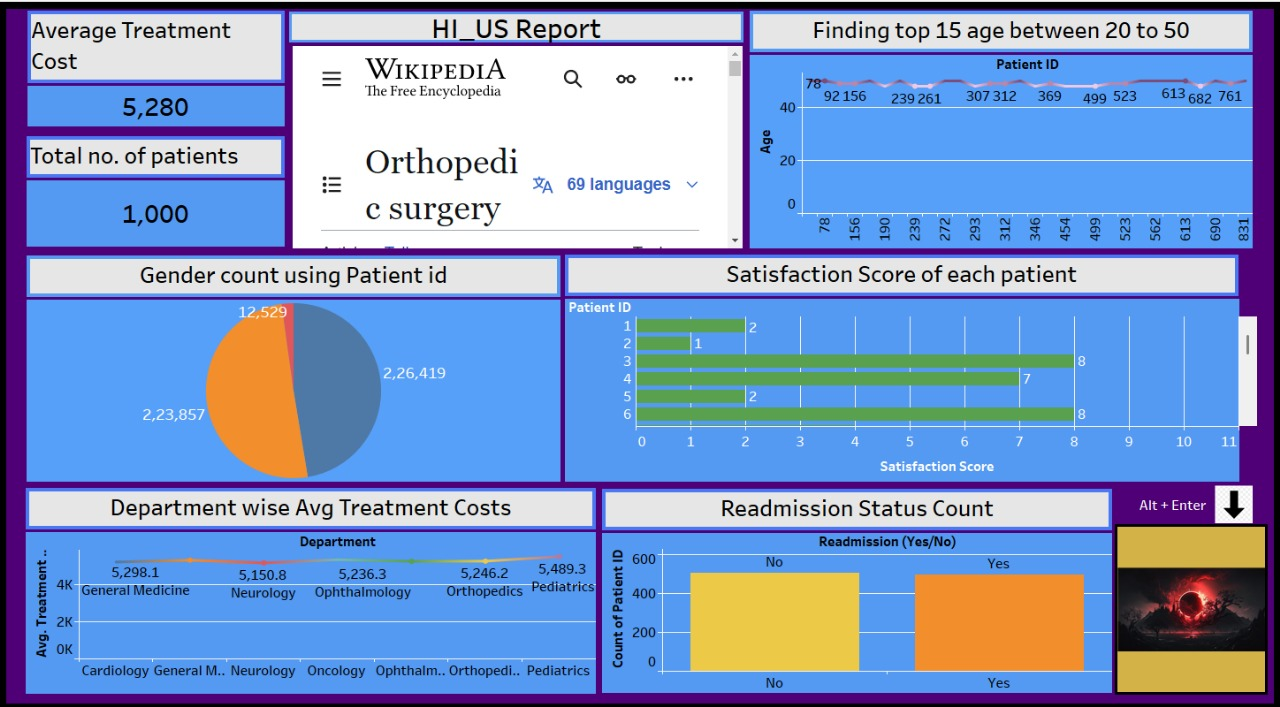

What the dashboard file says about the page in this screenshot:
{"tool":"tableau","page":{"name":"Dashboard 1","canvas":[1000,1000],"units":"permille","ordinal":0},"visuals":[{"type":"worksheet","title":"Sheet 9","mark":"Automatic","box":[22.1,12.5,200.7,163.3]},{"type":"worksheet","title":"Sheet 1","mark":"Line","rows":["Age"],"cols":["Patient ID"],"box":[585.5,12.5,392.4,335.4]},{"type":"title","box":[226.2,13.7,354.5,43.6]},{"type":"web page","param":"https://en.wikipedia.org/wiki/Orthopedics","box":[229,62.3,351,285.5]},{"type":"worksheet","title":"Sheet 8","mark":"Automatic","box":[21.4,189.5,201.4,155.9]},{"type":"worksheet","title":"Sheet 4","mark":"Automatic","rows":["Patient ID"],"cols":["Satisfaction Score"],"box":[441.4,356.6,540,320.4]},{"type":"worksheet","title":"Sheet 2","mark":"Pie","box":[21.4,357.9,416.6,319.2]},{"type":"image","param":"C:/Users/Divya/Downloads/down arrow.jpg","box":[944.1,682,37.9,53.6]},{"type":"text","box":[872.4,683.3,86.2,52.4]},{"type":"worksheet","title":"Sheet 5","mark":"Line","rows":["Treatment Cost ($)"],"cols":["Department"],"box":[20.7,685.8,444.8,290.5]},{"type":"worksheet","title":"Sheet 6","mark":"Automatic","rows":["Patient ID"],"cols":["Readmission (Yes/No)"],"box":[470.3,687,397.9,288]},{"type":"dashboard-object","box":[870.3,736.9,119.3,240.7]}]}

Visuals, with their boxes on the dashboard's canvas, which has no fixed pixel size, in thousandths of its width and height (x1, y1, x2, y2). These are canvas units, not pixel positions in the 1280x707 screenshot, which may show the page scaled, cropped or inside an application window:
"Sheet 9" worksheet: (x1=22, y1=12, x2=223, y2=176)
"Sheet 1" worksheet (Line marks): (x1=586, y1=12, x2=978, y2=348)
title: (x1=226, y1=14, x2=581, y2=57)
web page: (x1=229, y1=62, x2=580, y2=348)
"Sheet 8" worksheet: (x1=21, y1=190, x2=223, y2=345)
"Sheet 4" worksheet: (x1=441, y1=357, x2=981, y2=677)
"Sheet 2" worksheet (Pie marks): (x1=21, y1=358, x2=438, y2=677)
image: (x1=944, y1=682, x2=982, y2=736)
text: (x1=872, y1=683, x2=959, y2=736)
"Sheet 5" worksheet (Line marks): (x1=21, y1=686, x2=466, y2=976)
"Sheet 6" worksheet: (x1=470, y1=687, x2=868, y2=975)
dashboard-object: (x1=870, y1=737, x2=990, y2=978)
